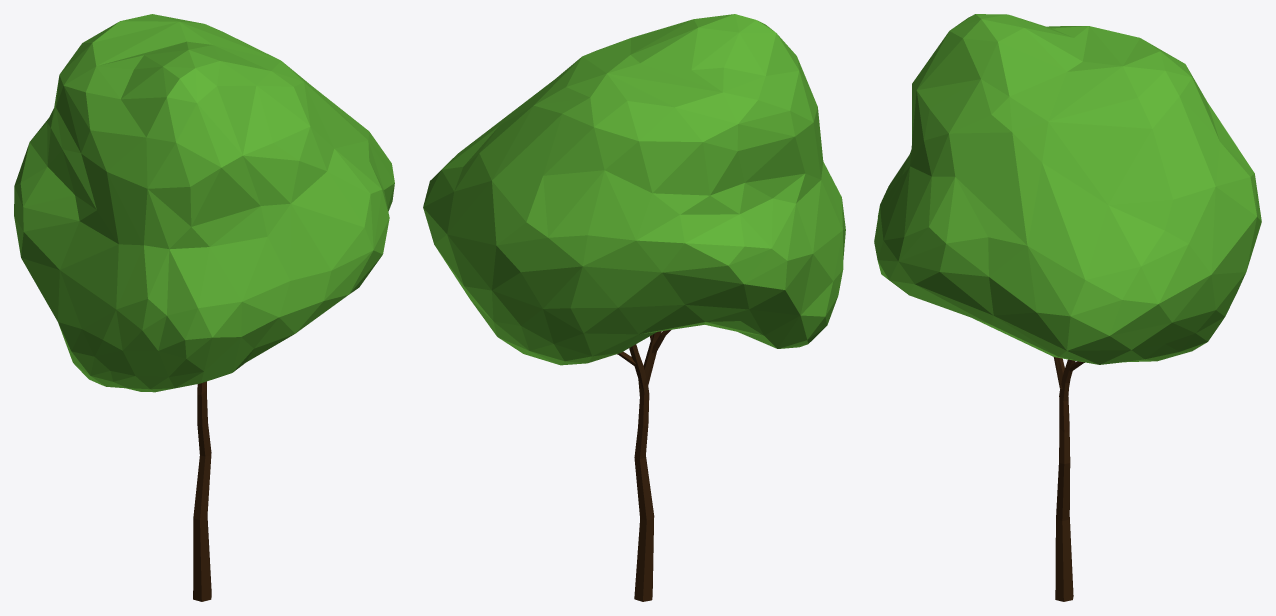
File: Tree04.fbx
3 renders of one model, left to right at view 1: azimuth 30°, elevation 25°; view 2: azimuth 150°, elevation 25°; view 3: azimuth 270°, elevation 25°, orthographic. The views are drawn at different scales.
Visible parts, largest first — view 1: tree_004; view 2: tree_004; view 3: tree_004.
Part boxes in pixels (x1,y1,x2,y2): tree_004: (14,14,394,601); tree_004: (423,14,845,601); tree_004: (874,14,1261,601).
Size of what is drawn, in the model's own units: 763 by 1161 by 735.
